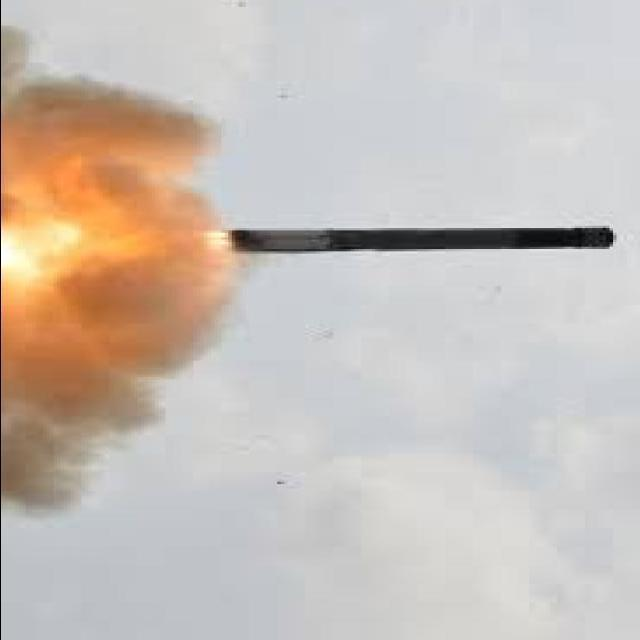missile: (224, 220, 618, 255)
